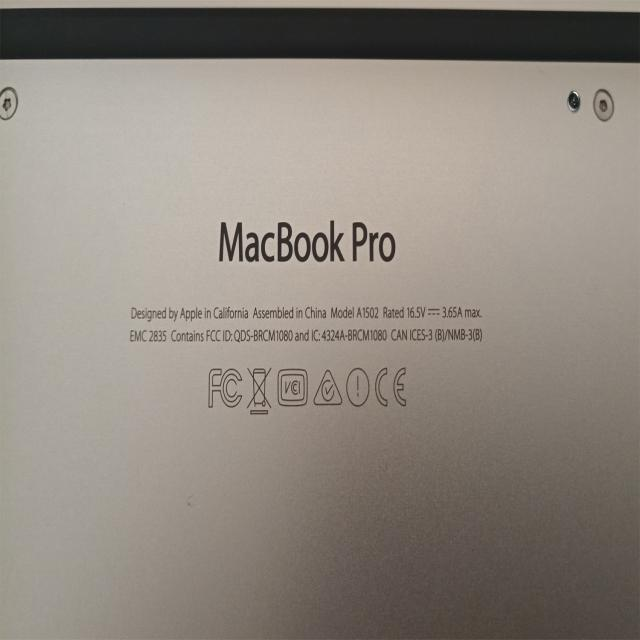lock: (567, 90, 580, 113)
